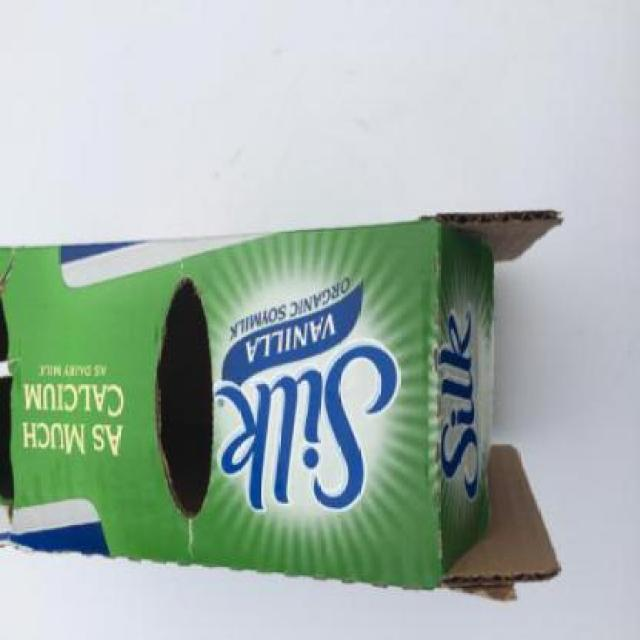box: (0, 200, 640, 612)
